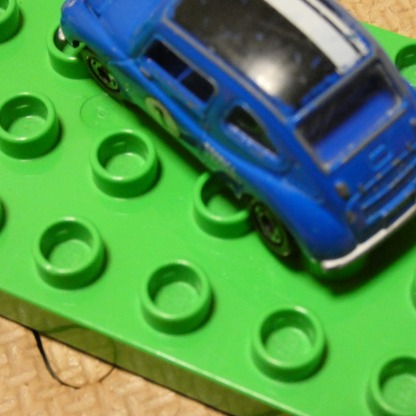car: (60, 0, 416, 278)
